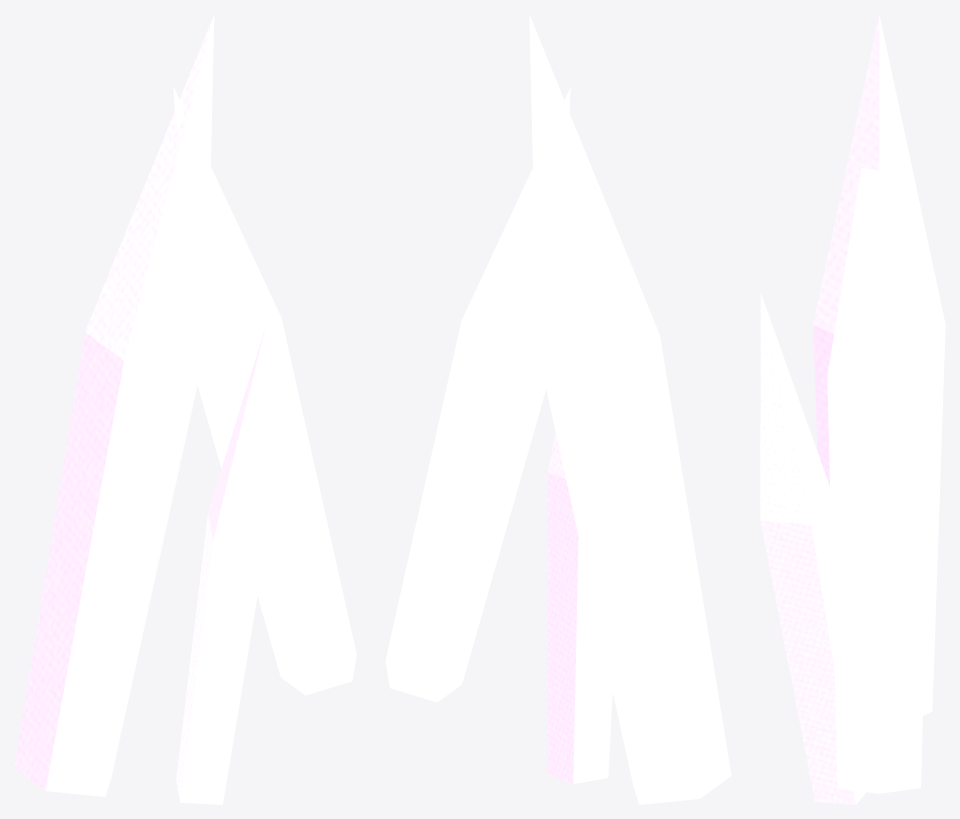
Rendered from fate-shard.glb.
3 views of the same model, side by side, from view 1: azimuth 30°, elevation 25°; view 2: azimuth 150°, elevation 25°; view 3: azimuth 270°, elevation 25° (orthographic). The views are drawn at different scales.
Parts seen in each view (by area): view 1: thread-a, thread-b, thread-c; view 2: thread-a, thread-b, thread-c; view 3: thread-b, thread-c, thread-a.
Part boxes in pixels (<box>): thread-a: <box>14,14,214,796</box>; thread-b: <box>173,86,356,695</box>; thread-c: <box>176,326,266,804</box>; thread-a: <box>529,14,731,804</box>; thread-b: <box>385,87,570,702</box>; thread-c: <box>547,432,612,784</box>; thread-b: <box>827,167,931,793</box>; thread-c: <box>760,293,866,804</box>; thread-a: <box>813,15,945,715</box>.
Bounding box in the file's own units: 0.3969 × 0.885 × 0.1861.
Materials: 2 (2 with a texture image).
